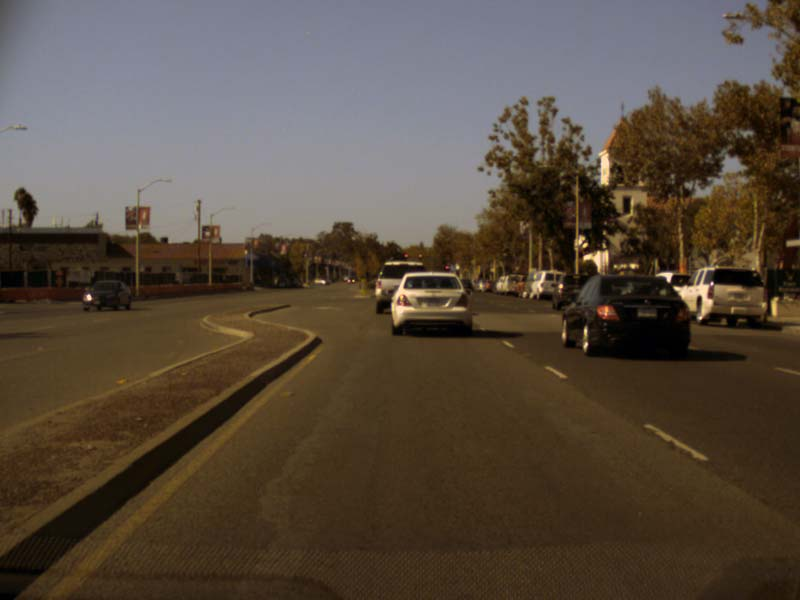Red: (443, 264, 450, 269), (404, 252, 408, 258)
Yellow: (417, 254, 421, 259)
